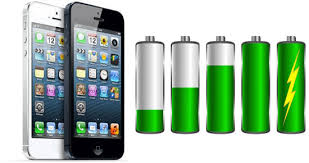iphone: (63, 1, 127, 159)
iphone5: (63, 1, 127, 159)
